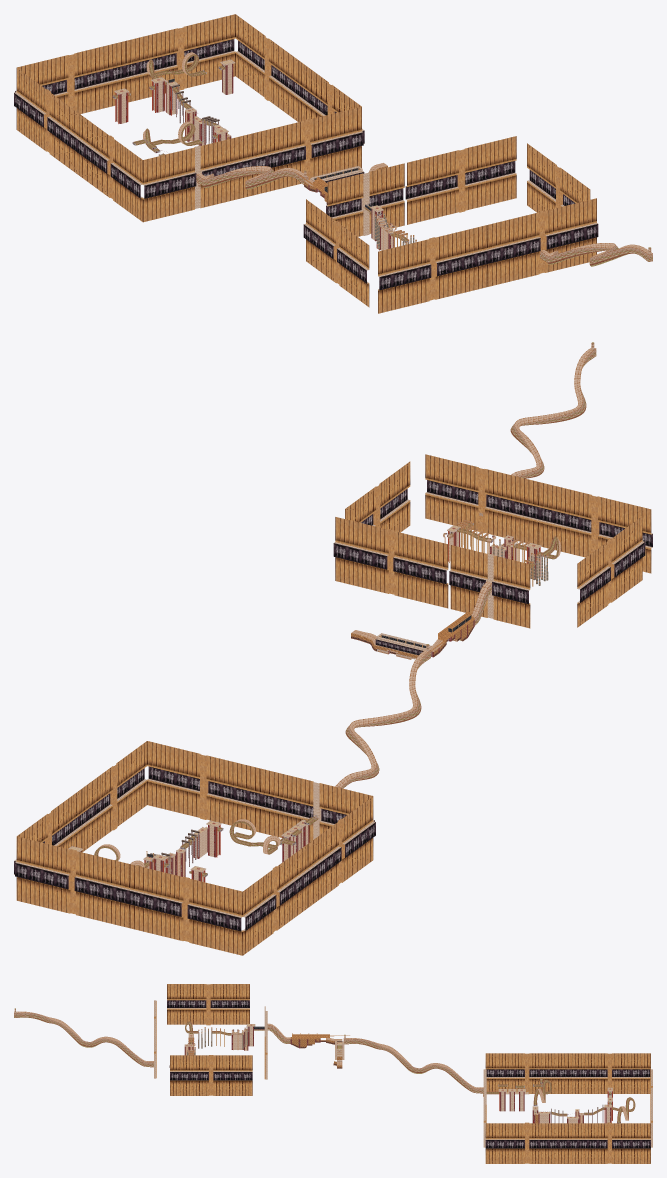
Rendered from PCnew.obj.
The picture shows the model from 3 angles, top to bottom: view 1: azimuth 30°, elevation 25°; view 2: azimuth 150°, elevation 25°; view 3: azimuth 270°, elevation 25°; orthographic projection. The views are drawn at different scales.
Bounding box in the file's own units: 6700 × 5370 × 23490.
Materials: 33 (33 with a texture image).
